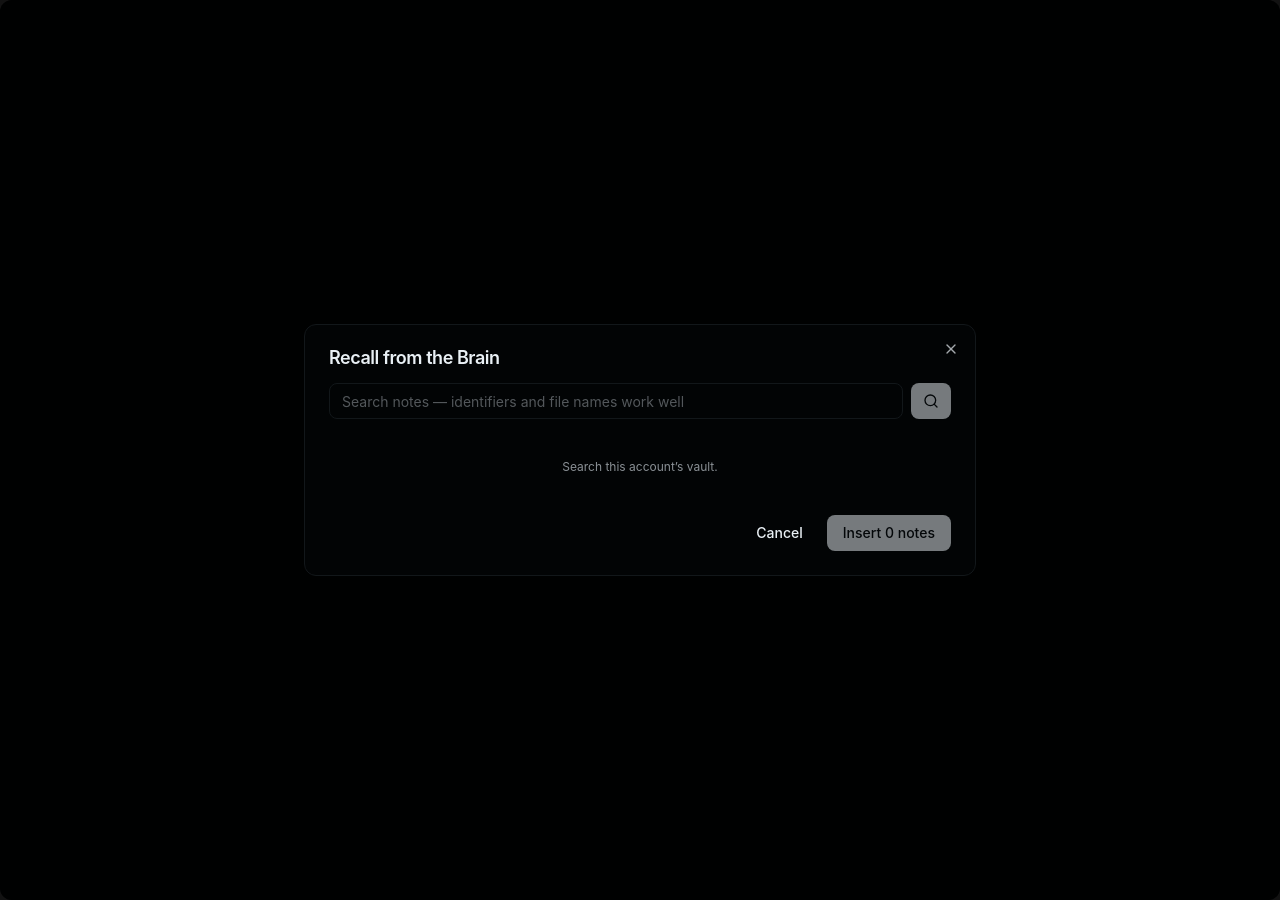
Test: RecallDialog › surfaces a search failure instead of showing an empty vault
The width and height of the screenshot is (1280, 900).
Type "drain" into the field named "Search the Brain" at (616, 401), box [329,383,903,419]
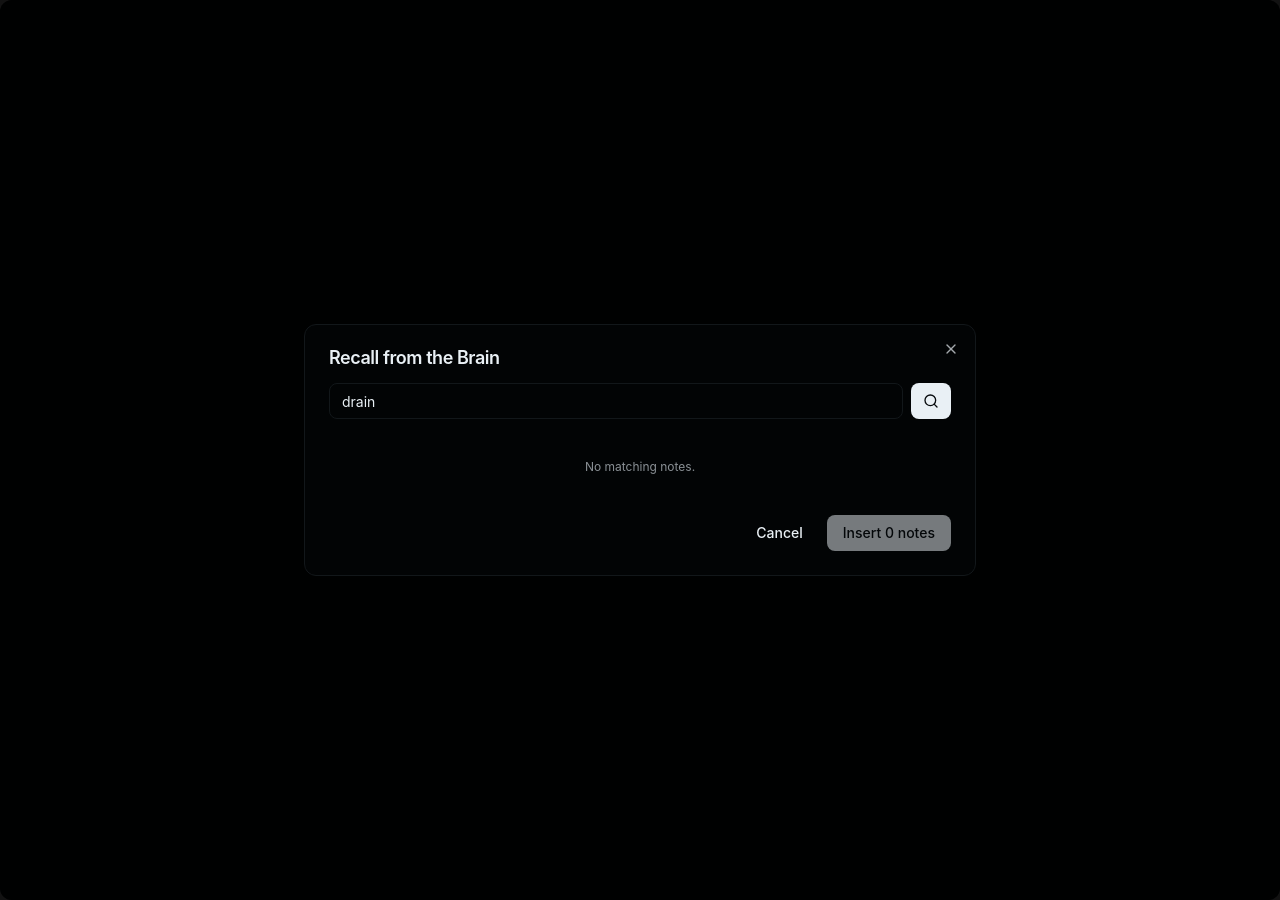
Submit the form named "Search the Brain", box [329,383,951,419]
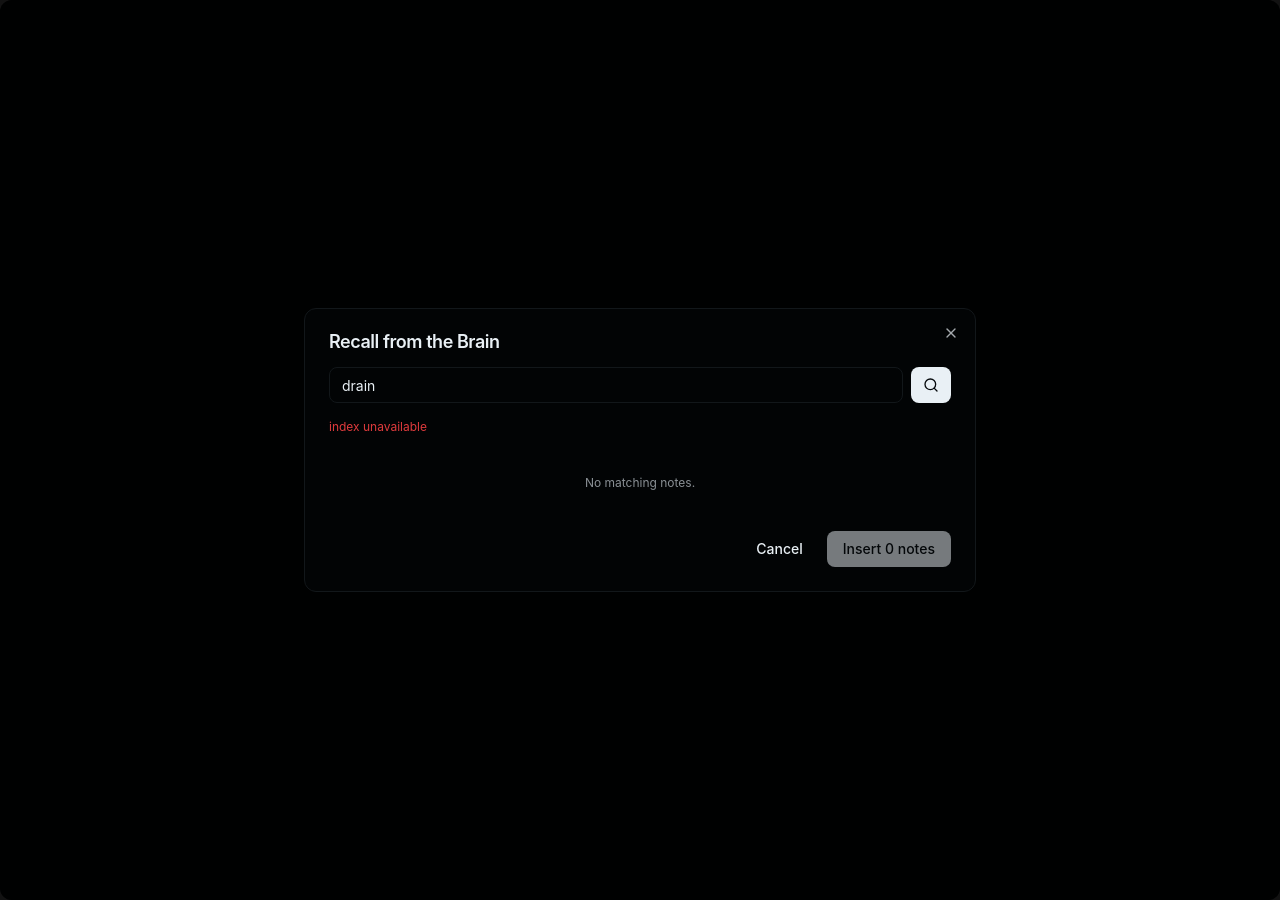
Expected: the text "index unavailable" is shown, [329,419,427,434]
